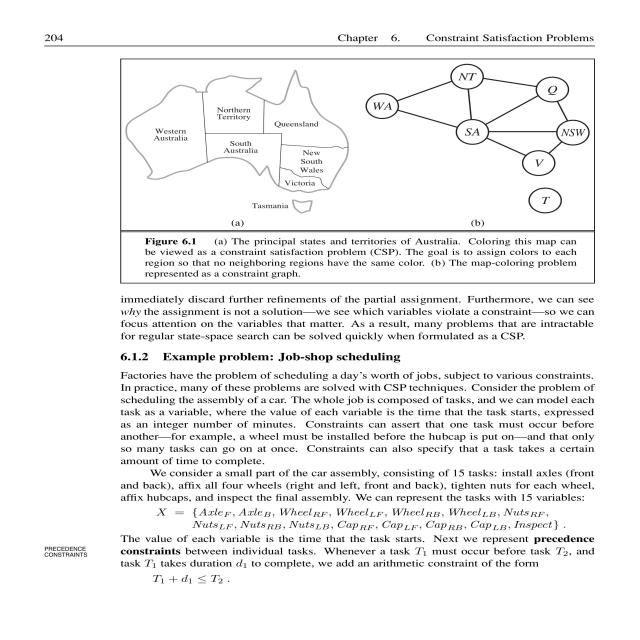diagram: (123, 59, 608, 280)
